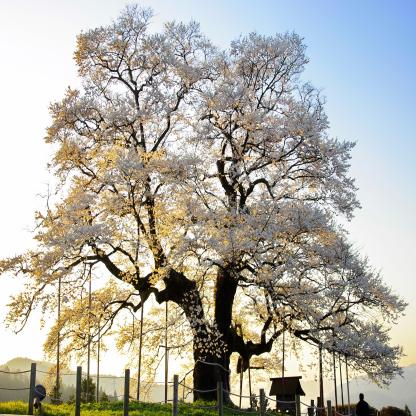EdohiganSakura: (0, 2, 411, 404)
